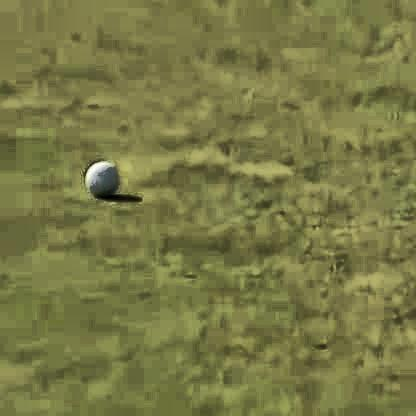golfball: (81, 151, 117, 193)
